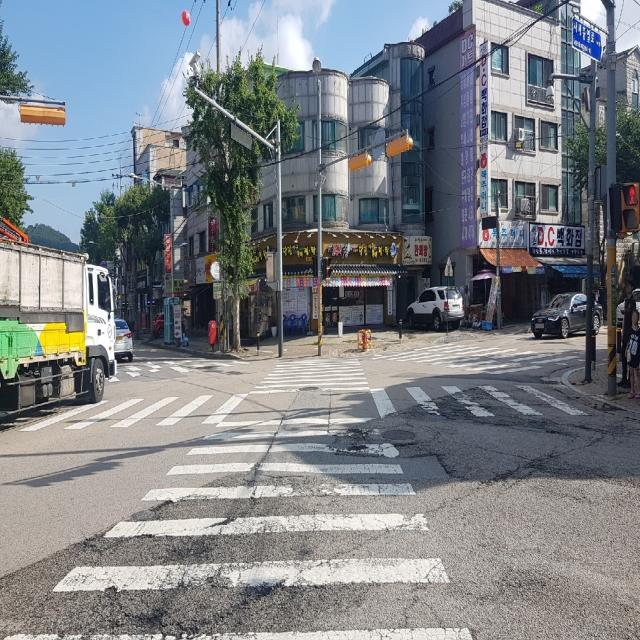횡단보도: (0, 354, 478, 639)
